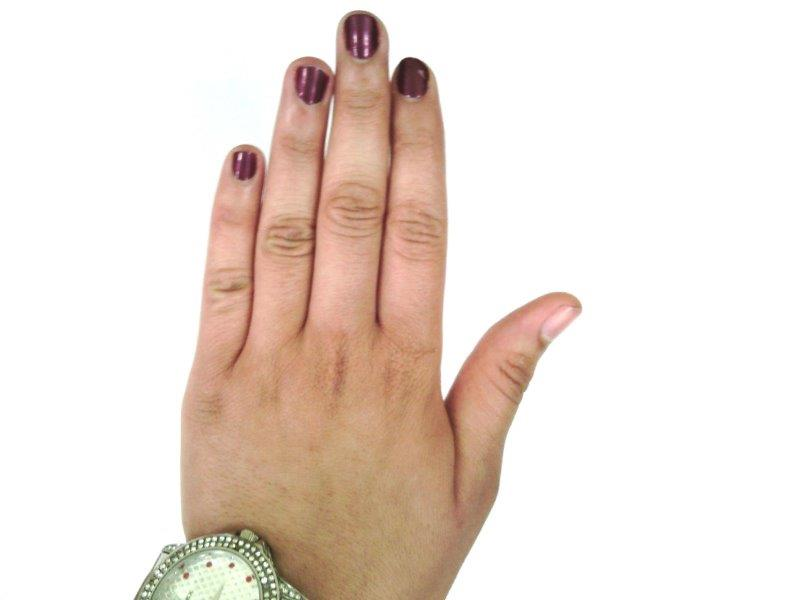hand: (180, 12, 581, 579)
